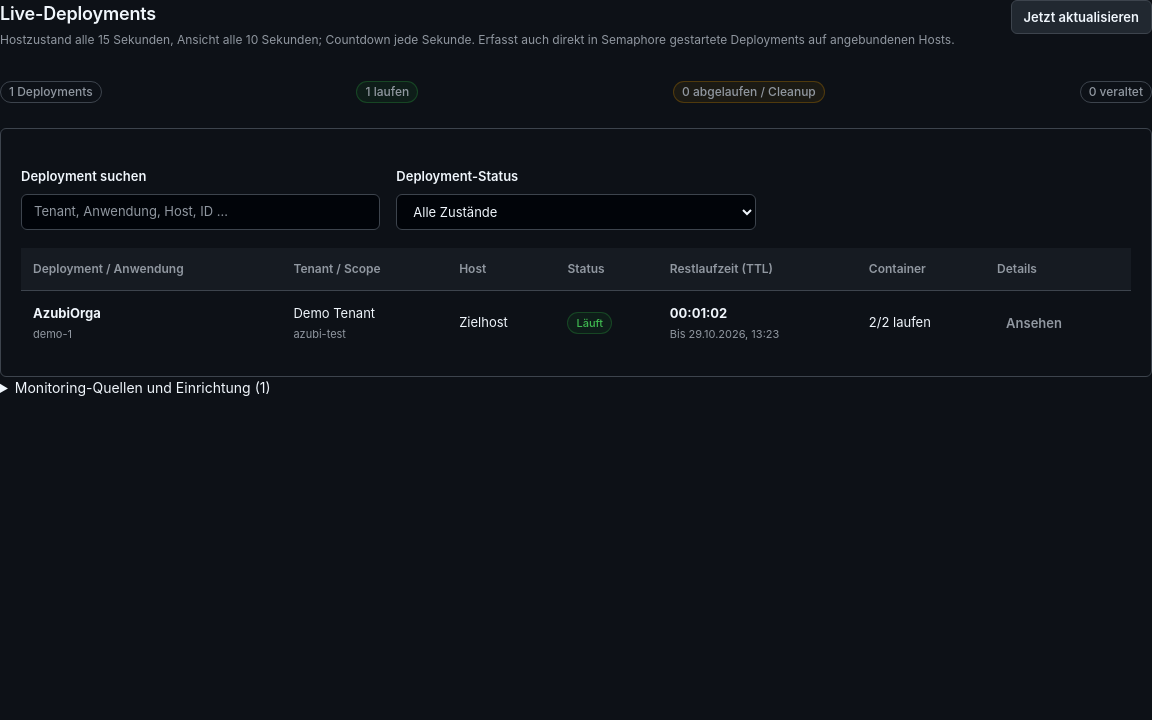
Test case: Live-Deploymentüberwachung › zeigt Metadaten direkt gestarteter Deployments und filtert ohne TaskRun
Expected: the text "AzubiOrga" is shown, [33,305,101,321]
Expected: the text "00:01:02" is shown, [670,305,727,321]
Click the button "Ansehen". click: (1034, 323)
box: [997,306,1071,340]
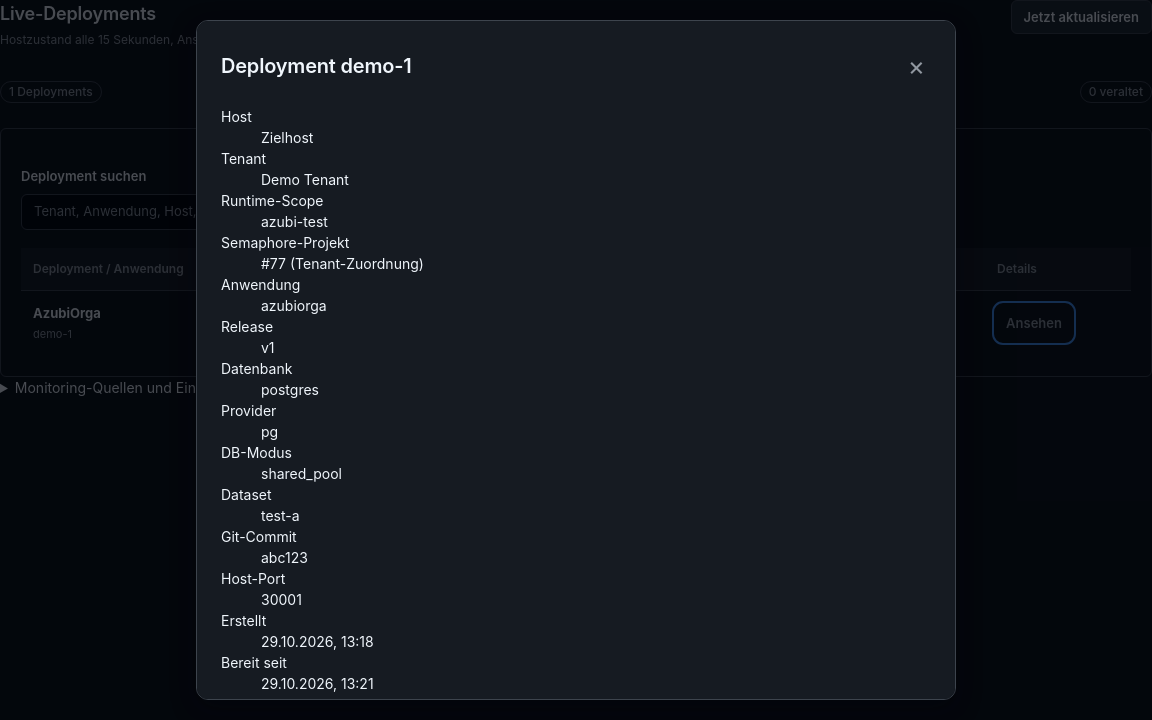
Expected: the text "azubi-test" is shown, [261,213,328,230]
Expected: the text "test-a" is shown, [261,507,300,524]
Expected: the text "pg" is shown, [261,423,278,440]
Click the button named "Dialog schließen". click: (916, 66)
box: [902,45,931,86]
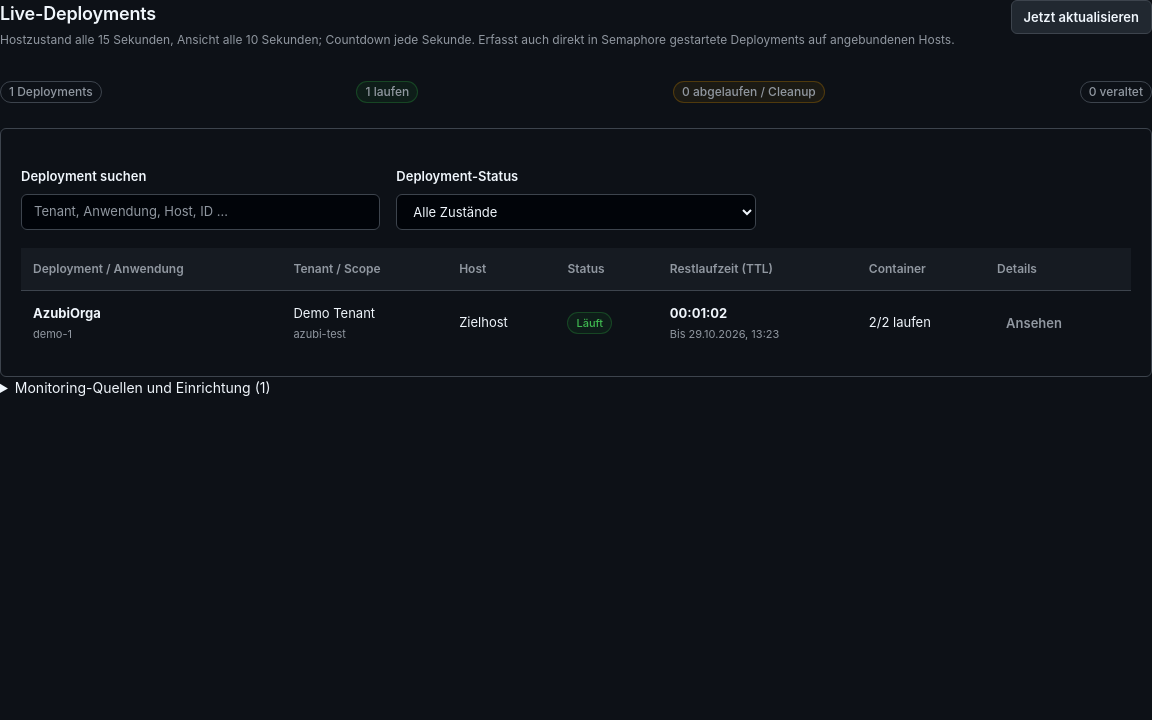
Type "wordpress" into the field labelled "Deployment suchen". click: (201, 212)
box: [21,194,380,230]
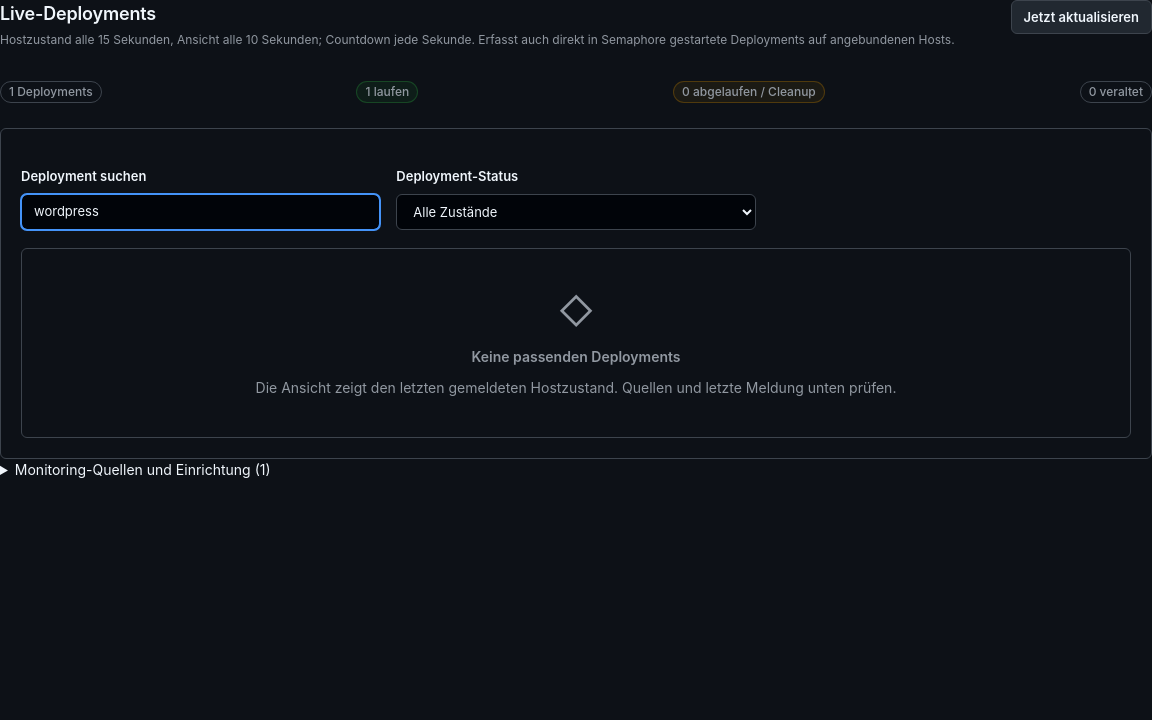
Expected: the heading "Keine passenden Deployments" is shown, [471,346,680,368]
